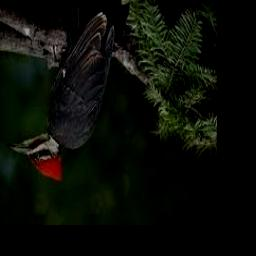Woodpecker: (9, 0, 128, 184)
